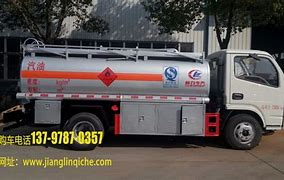oil truck: (7, 22, 280, 153)
